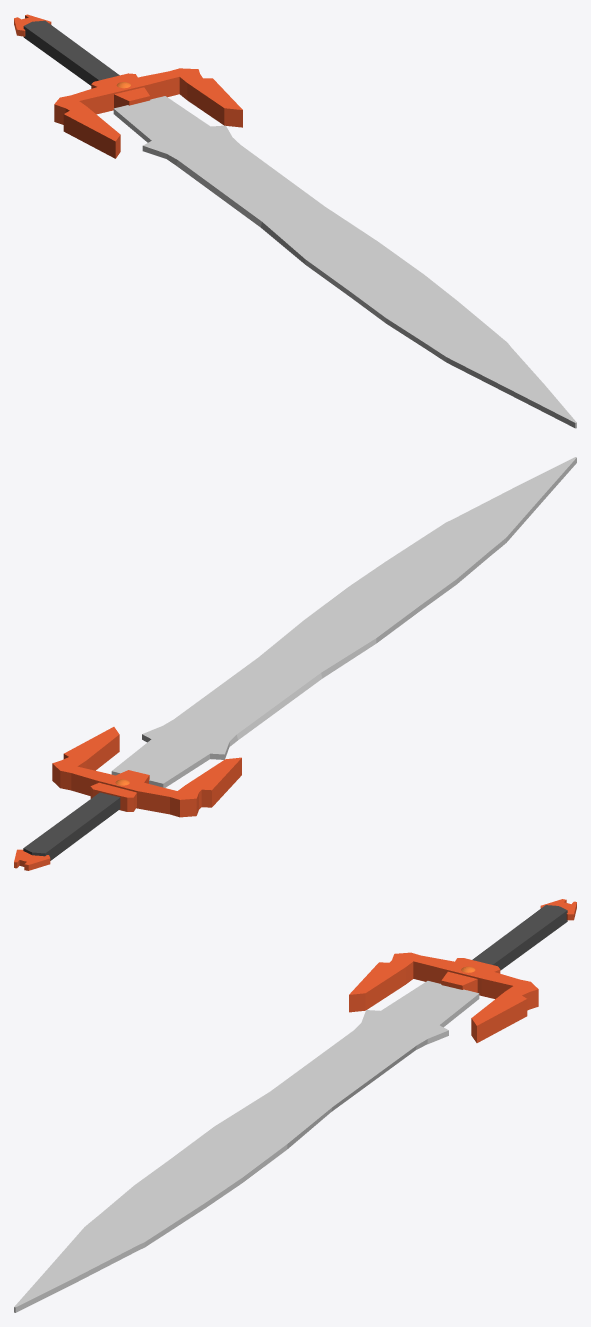
File: Sword.fbx
3 renders of one model, top to bottom at view 1: azimuth 30°, elevation 25°; view 2: azimuth 150°, elevation 25°; view 3: azimuth 330°, elevation 25°, orthographic.
Parts seen in each view (by area): view 1: Cube, Cross2, Handle, Cross1; view 2: Cube, Cross2, Handle, Cross1, Pommel; view 3: Cube, Cross2, Handle, Cross1.
Part boxes in pixels (box(x1,y1,x2,y2)): Cube: box(113, 96, 576, 428); Cross2: box(54, 68, 242, 158); Handle: box(23, 20, 119, 85); Cross1: box(91, 73, 150, 108); Cube: box(111, 457, 576, 787); Cross2: box(52, 727, 241, 817); Handle: box(23, 792, 120, 860); Cross1: box(90, 770, 149, 811); Pommel: box(14, 849, 50, 870); Cube: box(14, 981, 479, 1312); Cross2: box(349, 952, 538, 1042); Handle: box(472, 905, 567, 970); Cross1: box(441, 958, 500, 992).
Bounding box in the file's own units: 39.82 × 5.59 × 258.
